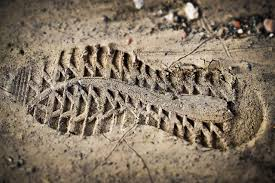human_footprint: (3, 22, 268, 169)
